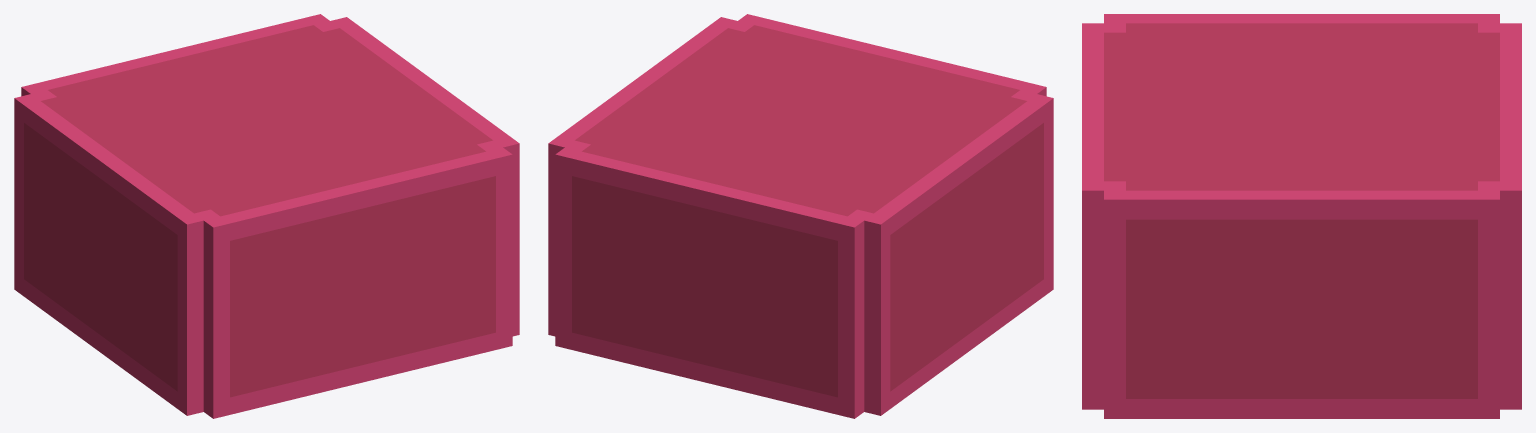
The model's file is PlacebleFloor.obj.
The picture shows the model from 3 angles, left to right: view 1: azimuth 30°, elevation 25°; view 2: azimuth 150°, elevation 25°; view 3: azimuth 270°, elevation 25°; orthographic projection. The views are drawn at different scales.
Size of the model in its own units: 2 by 1.1 by 2.
Materials: 1 (1 with a texture image).
